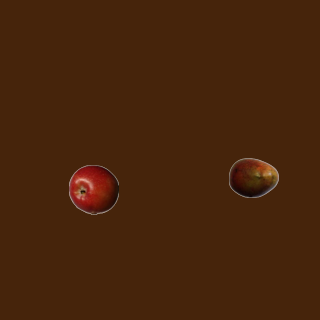Apple Braeburn: (68, 164, 118, 214)
Mango Red: (228, 152, 278, 202)
